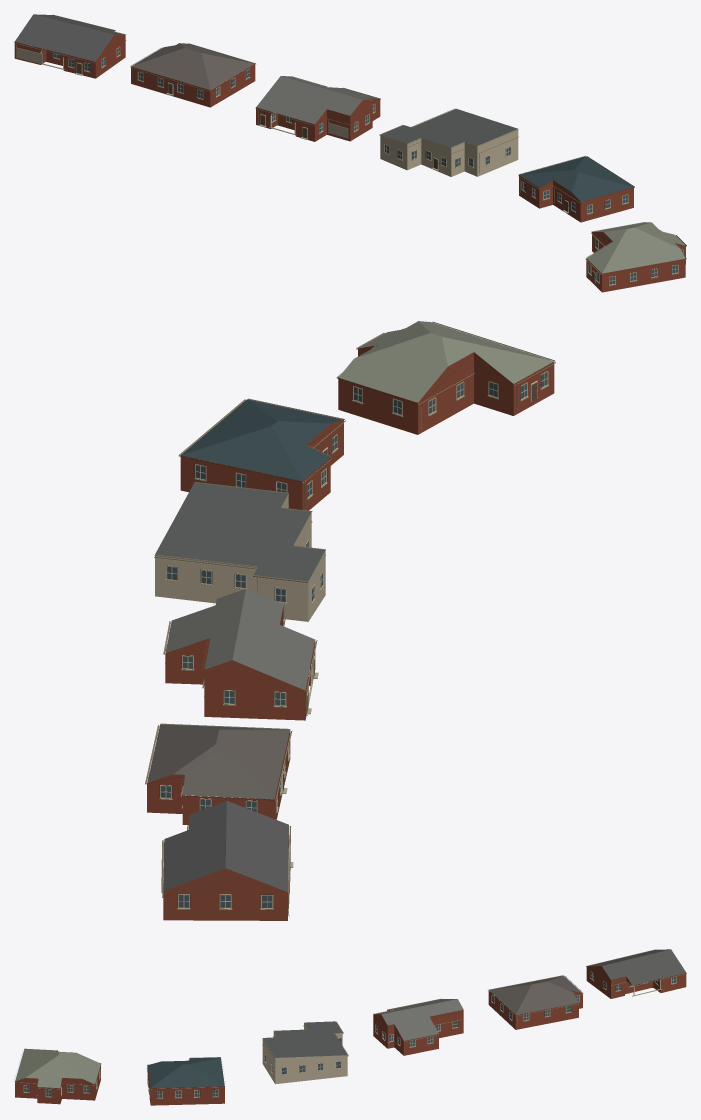
The picture shows the model from 3 angles, top to bottom: view 1: azimuth 30°, elevation 25°; view 2: azimuth 150°, elevation 25°; view 3: azimuth 270°, elevation 25°; orthographic projection. The views are drawn at different scales.
Visible parts, largest first — view 1: -2_11_608401548_22, -2_11_608401551_25; view 2: -2_11_608401548_22, -2_11_608401551_25; view 3: -2_11_608401548_22, -2_11_608401551_25.
Part boxes in pixels (x1,y1,x2,y2): -2_11_608401548_22: (14,14,686,292); -2_11_608401551_25: (380,129,518,176); -2_11_608401548_22: (145,321,555,920); -2_11_608401551_25: (155,494,325,621); -2_11_608401548_22: (15,949,686,1105); -2_11_608401551_25: (262,1023,347,1084).
Size of the model in its own units: 74.62 by 10.1 by 158.
